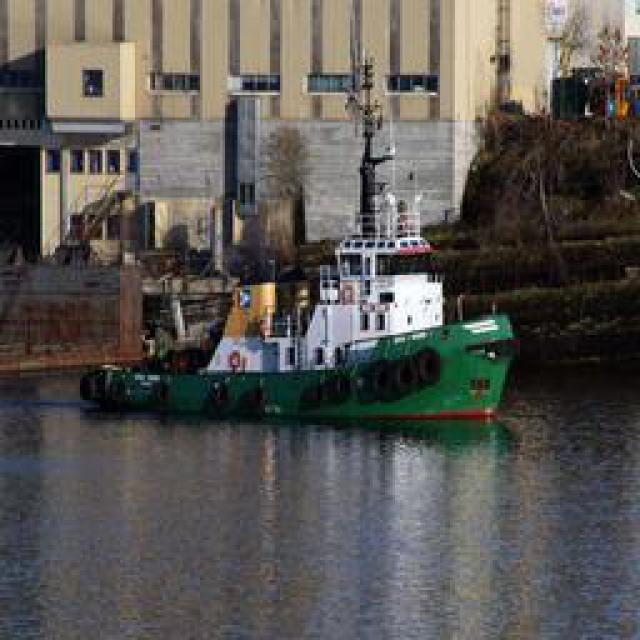Ship: (89, 222, 514, 425)
